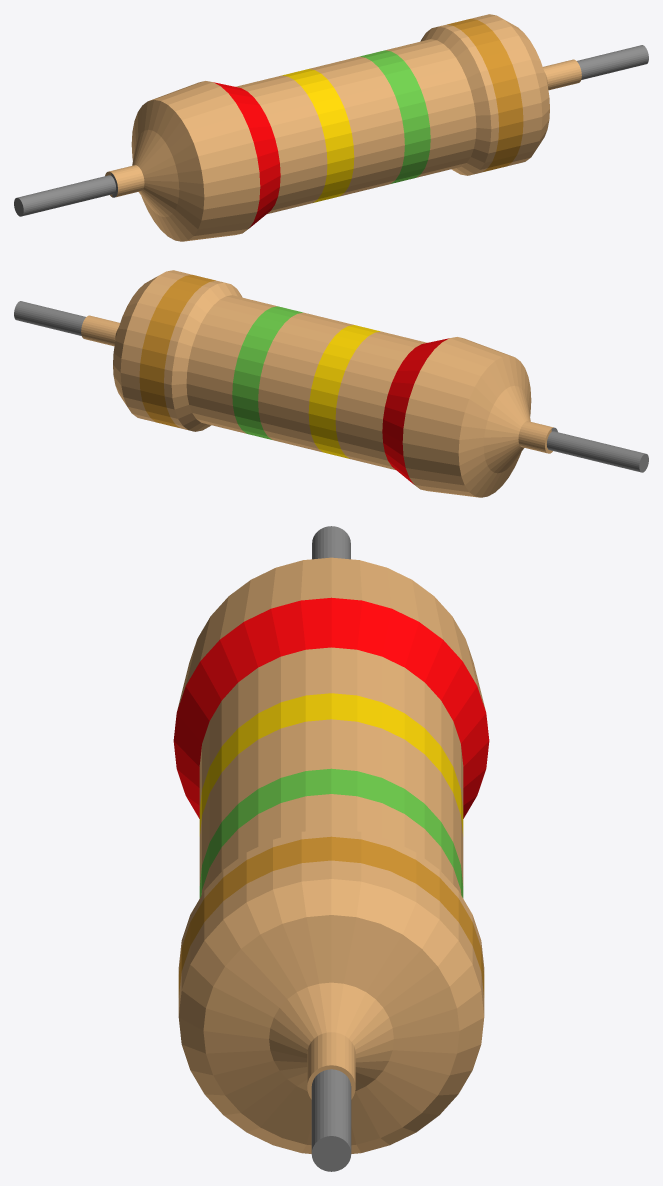
Rendered from Resistor.fbx.
3 renders of one model, top to bottom at view 1: azimuth 30°, elevation 25°; view 2: azimuth 150°, elevation 25°; view 3: azimuth 270°, elevation 25°, orthographic. The views are drawn at different scales.
Parts seen in each view (by area): view 1: Cylinder; view 2: Cylinder; view 3: Cylinder.
Boxes of the visible parts, box(x1,y1,x2,y2) form: Cylinder: box(14, 14, 648, 241); Cylinder: box(14, 270, 648, 497); Cylinder: box(173, 526, 489, 1171).
Size of the model in its own units: 367 by 80.26 by 80.26.
